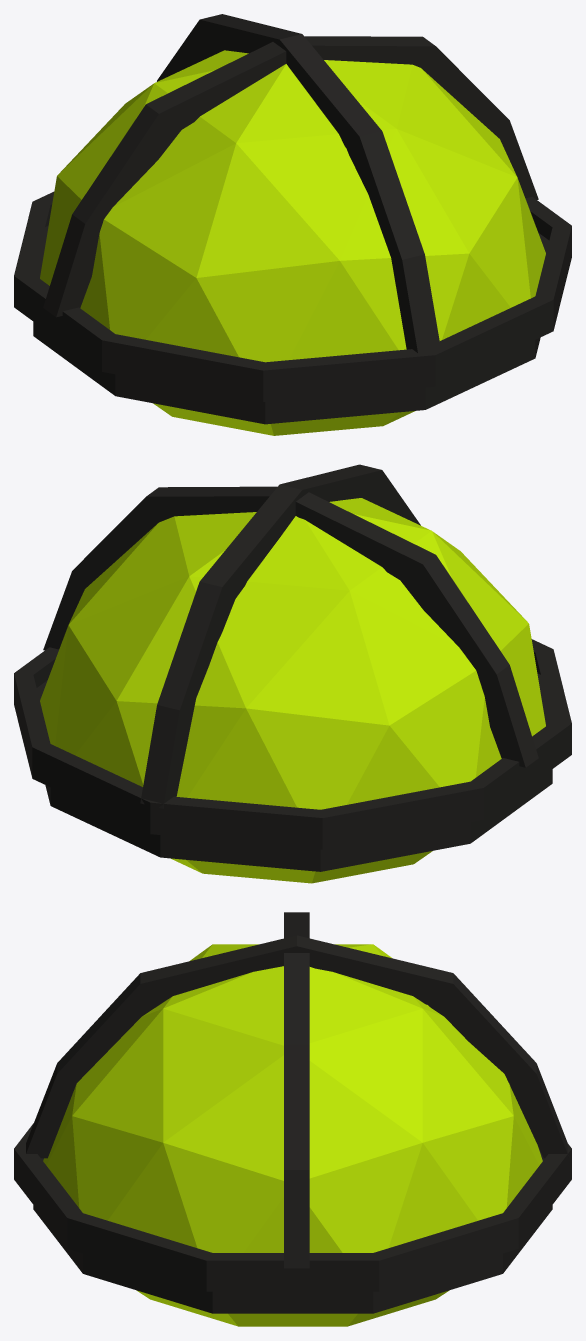
The model's file is Lamp.fbx.
3 renders of one model, top to bottom at view 1: azimuth 30°, elevation 25°; view 2: azimuth 150°, elevation 25°; view 3: azimuth 270°, elevation 25°, orthographic. The views are drawn at different scales.
Visible parts, largest first — view 1: Icosphere.001; view 2: Icosphere.001; view 3: Icosphere.001.
Part boxes in pixels (bbox=[...]): Icosphere.001: bbox=[14, 14, 571, 435]; Icosphere.001: bbox=[14, 464, 571, 883]; Icosphere.001: bbox=[14, 912, 571, 1326].
Bounding box in the file's own units: 37.24 × 38.11 × 26.03.
